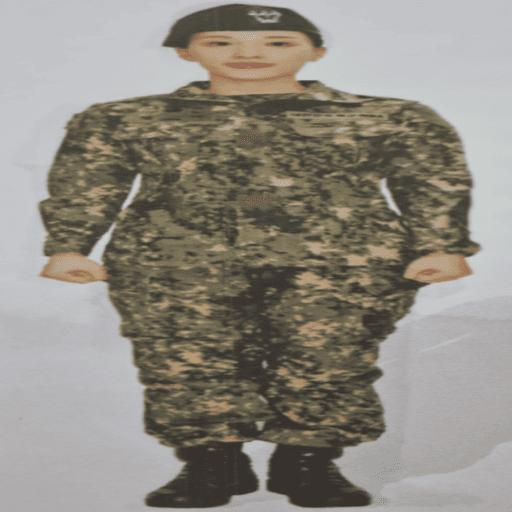korea army: (37, 3, 481, 508)
